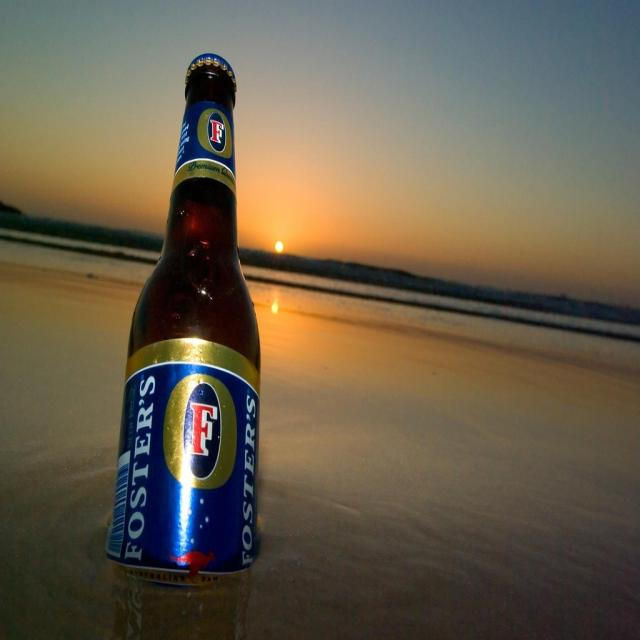fosters: (162, 371, 240, 495), (196, 108, 236, 162)
